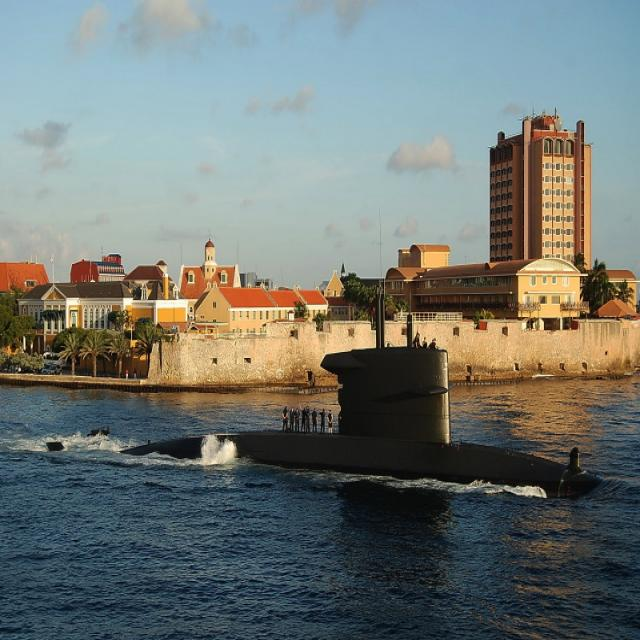submarine: (113, 288, 612, 496)
